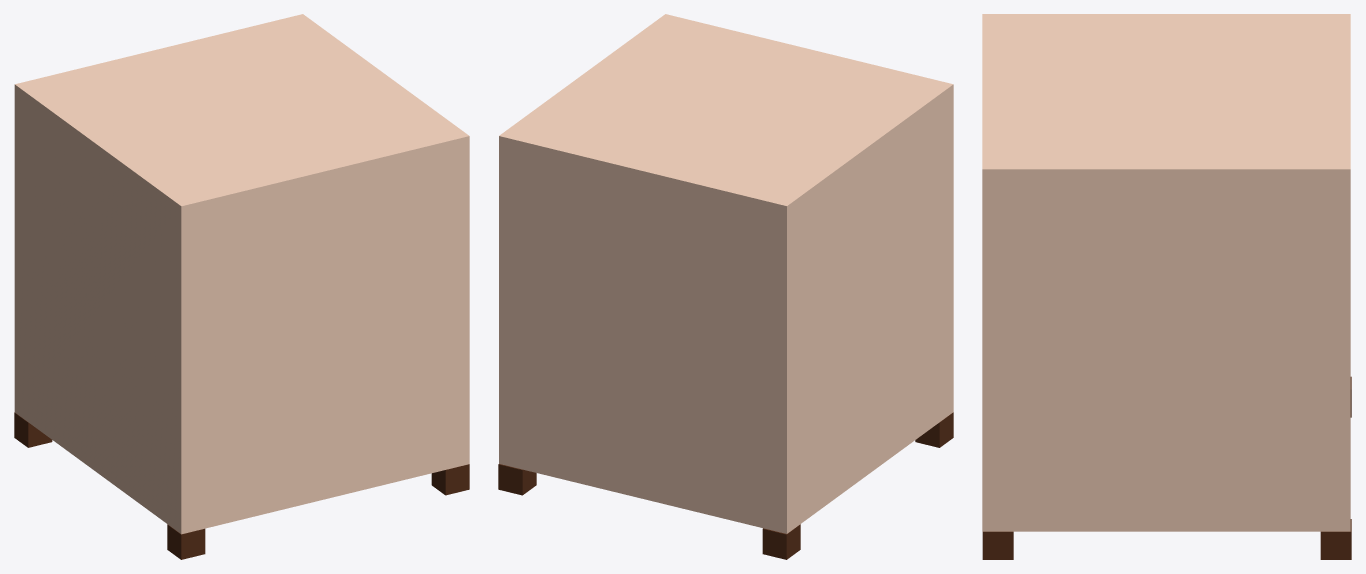
The model's file is PW_cupboard_corner.fbx.
3 views of the same model, side by side, from view 1: azimuth 30°, elevation 25°; view 2: azimuth 150°, elevation 25°; view 3: azimuth 270°, elevation 25° (orthographic). The views are drawn at different scales.
Visible parts, largest first — view 1: cupboard_corner; view 2: cupboard_corner; view 3: cupboard_corner.
Part boxes in pixels (bbox=[...]): cupboard_corner: bbox=[14, 14, 469, 559]; cupboard_corner: bbox=[498, 14, 953, 559]; cupboard_corner: bbox=[982, 14, 1351, 559].
Bounding box in the file's own units: 1.19 × 1.4 × 1.2.
